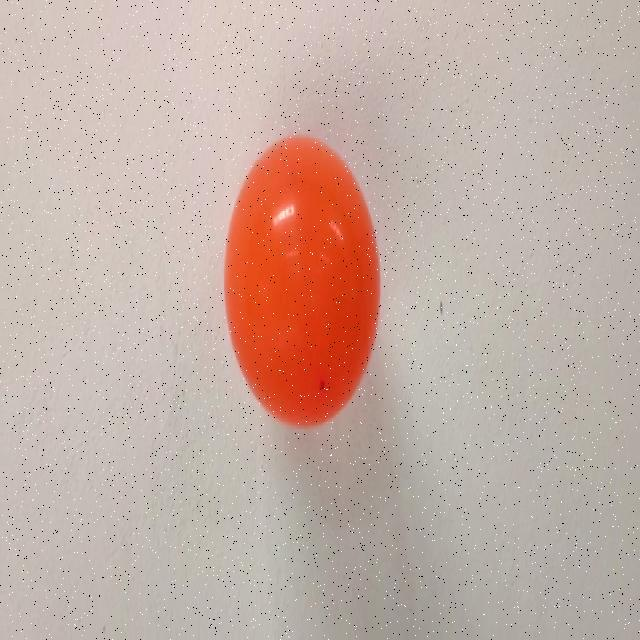red: (223, 135, 382, 429)
